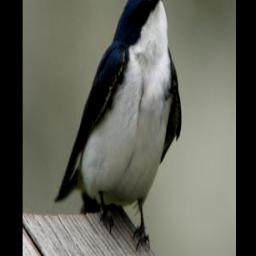Swallow: (53, 0, 183, 252)
